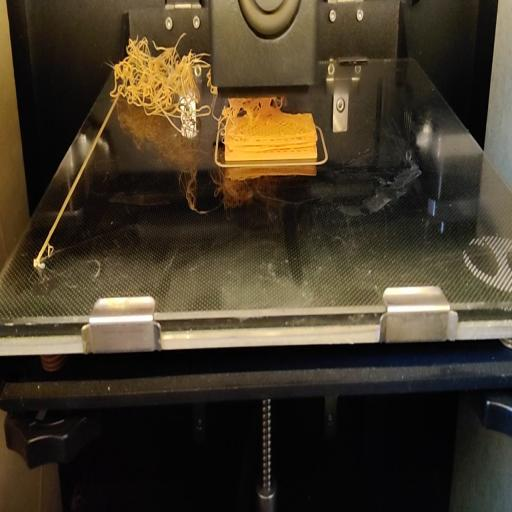spaghetti: (106, 33, 211, 128), (215, 92, 289, 132)
